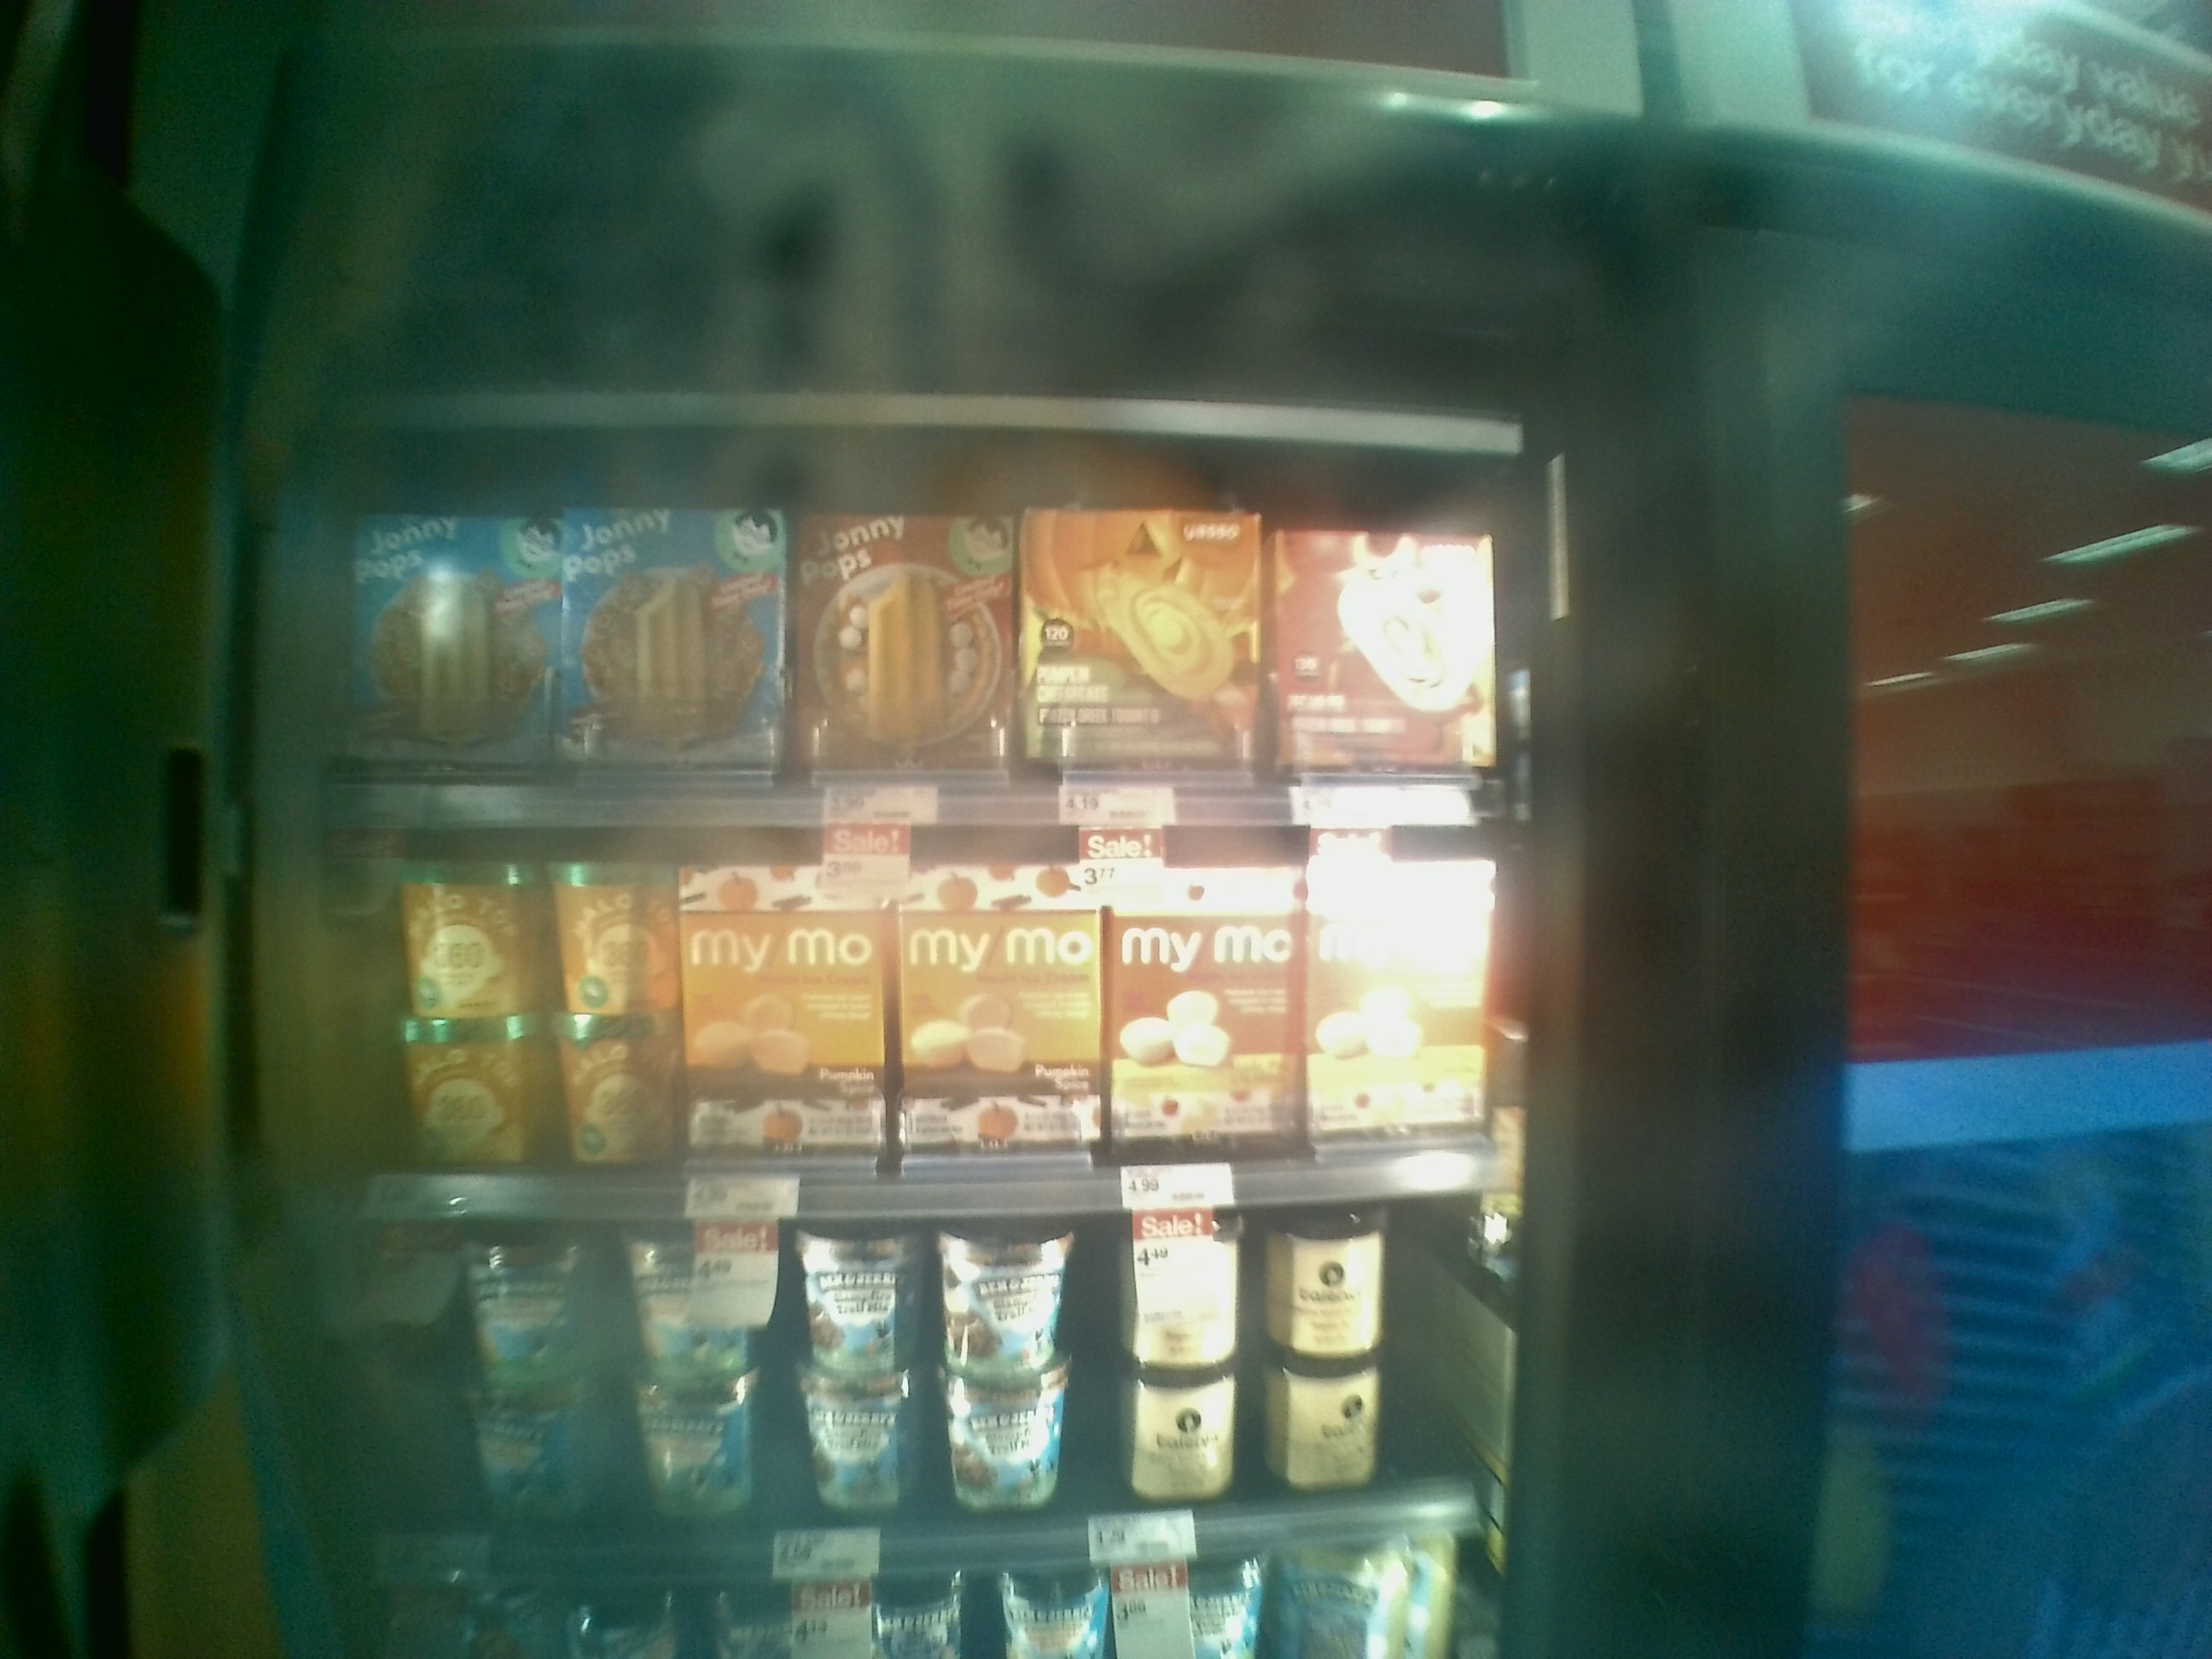shelf: (268, 807, 1529, 1229), (303, 415, 1524, 833), (256, 1213, 1519, 1544)
